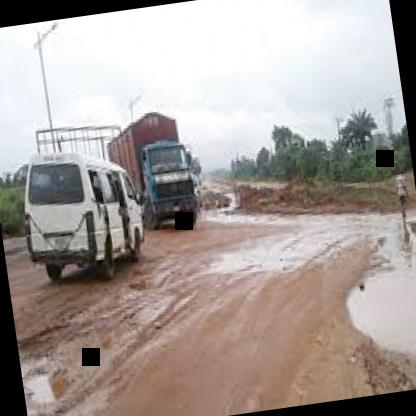car: (9, 136, 153, 286), (102, 91, 203, 240)
